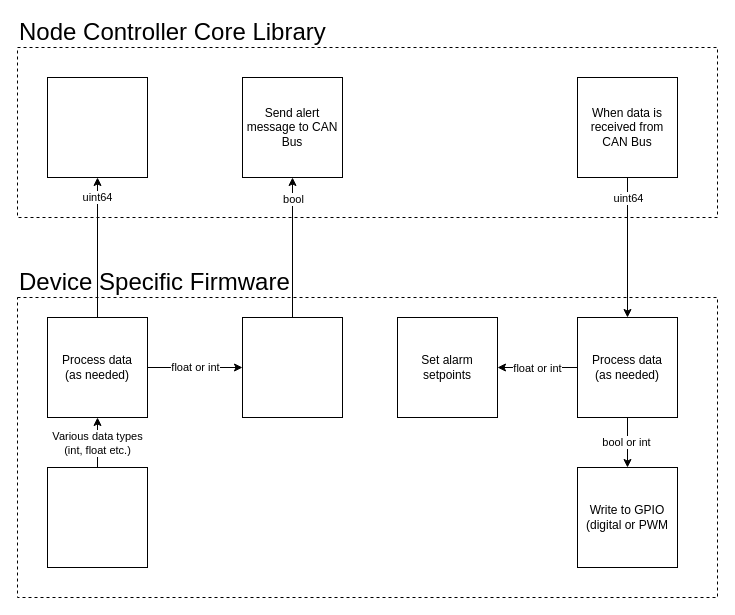
The diagram is 735 pixels wide and 615 high, and some of its shapes have lost their labels. The shapes that lost their labels are listed below. From the top down, each one's centre as x and y in pixels, then its label:
At point 97,127: "Send data to CAN Bus".
At point 292,367: "Check data against alarm set points".
At point 97,517: "Read from GPIO (analog or digital)".
